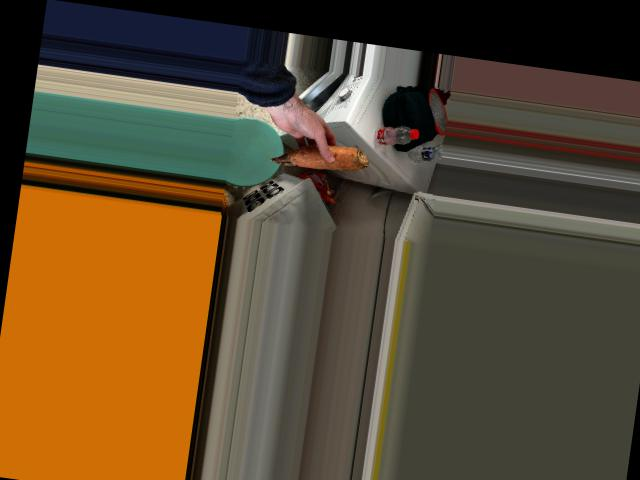sweet_potato: (275, 135, 369, 174)
